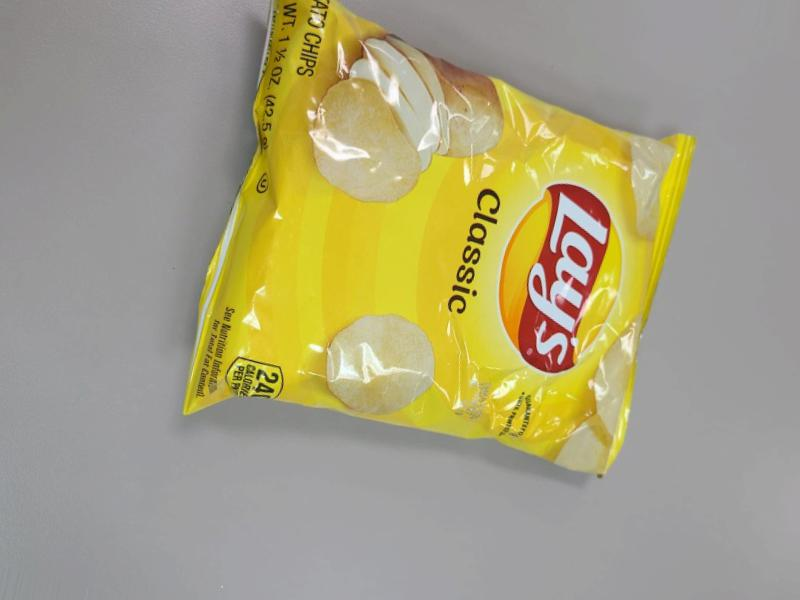lays: (255, 48, 788, 566)
